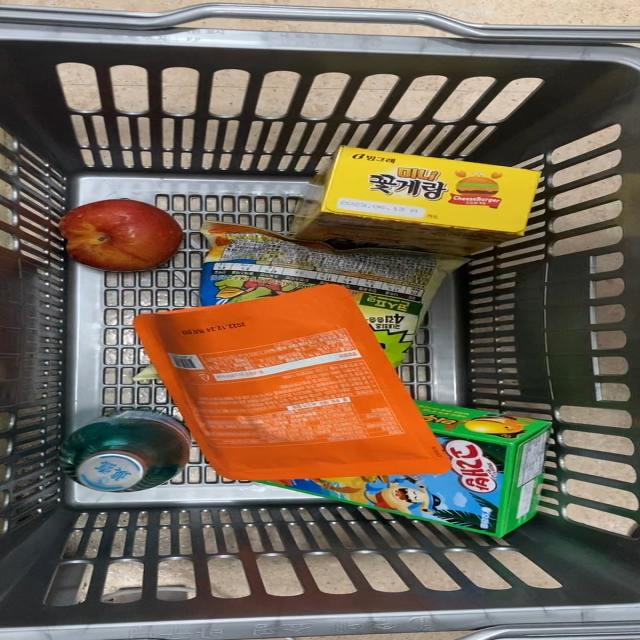cheesebagel: (155, 308, 431, 478)
ggobukchip: (187, 228, 436, 412)
goraebob: (232, 398, 551, 534)
jinro: (62, 412, 188, 500)
minicrab: (313, 152, 534, 251)
plum: (52, 196, 186, 272)
